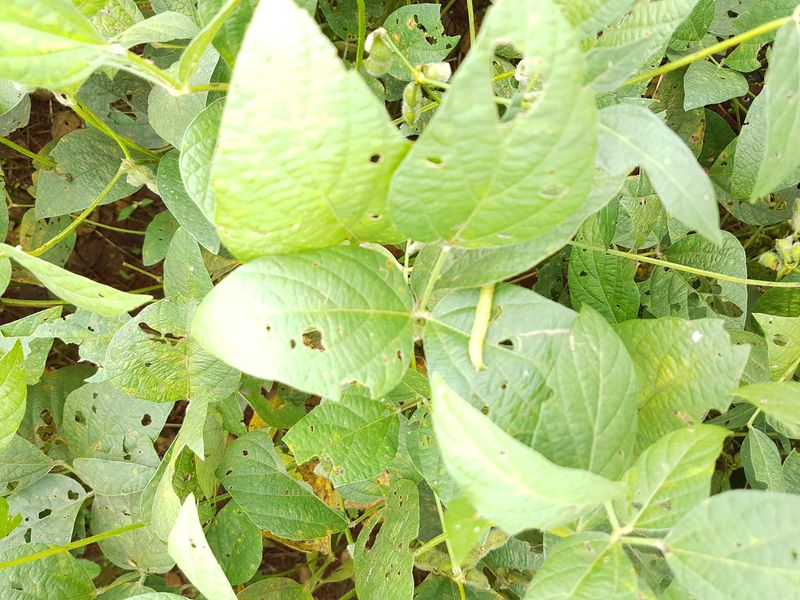Anticarsia_gemmatalis: (454, 274, 515, 379)
